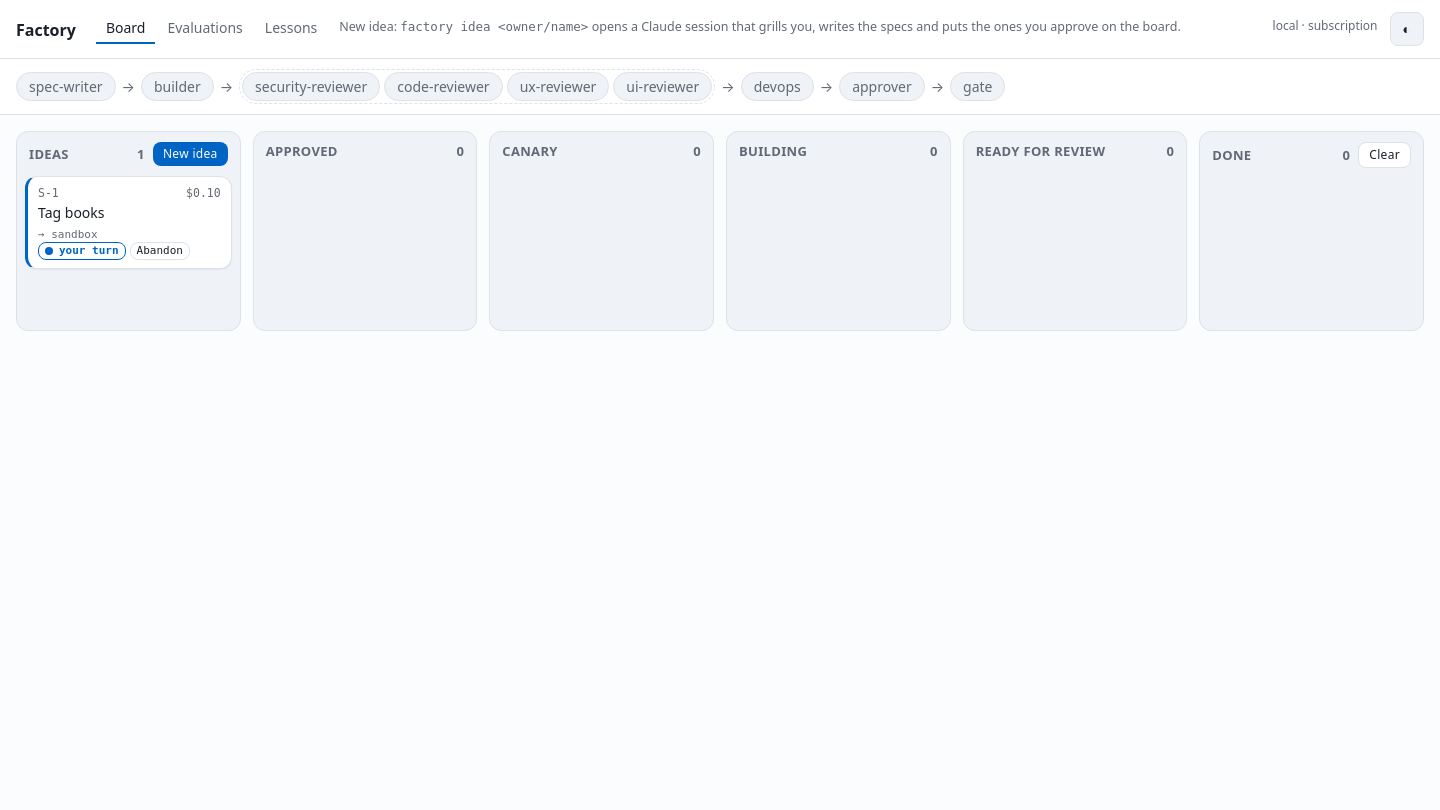
Test: an idea session › a New repo session confirms its product, and its stepper is Grill → Scaffold → Review → Merged
The image size is (1440, 810).
Click the element showing "S-1 $0.10 Tag books → sandbox your turn Abandon". click: [128, 222]
box: [25,176,232,269]
(page scrolled)
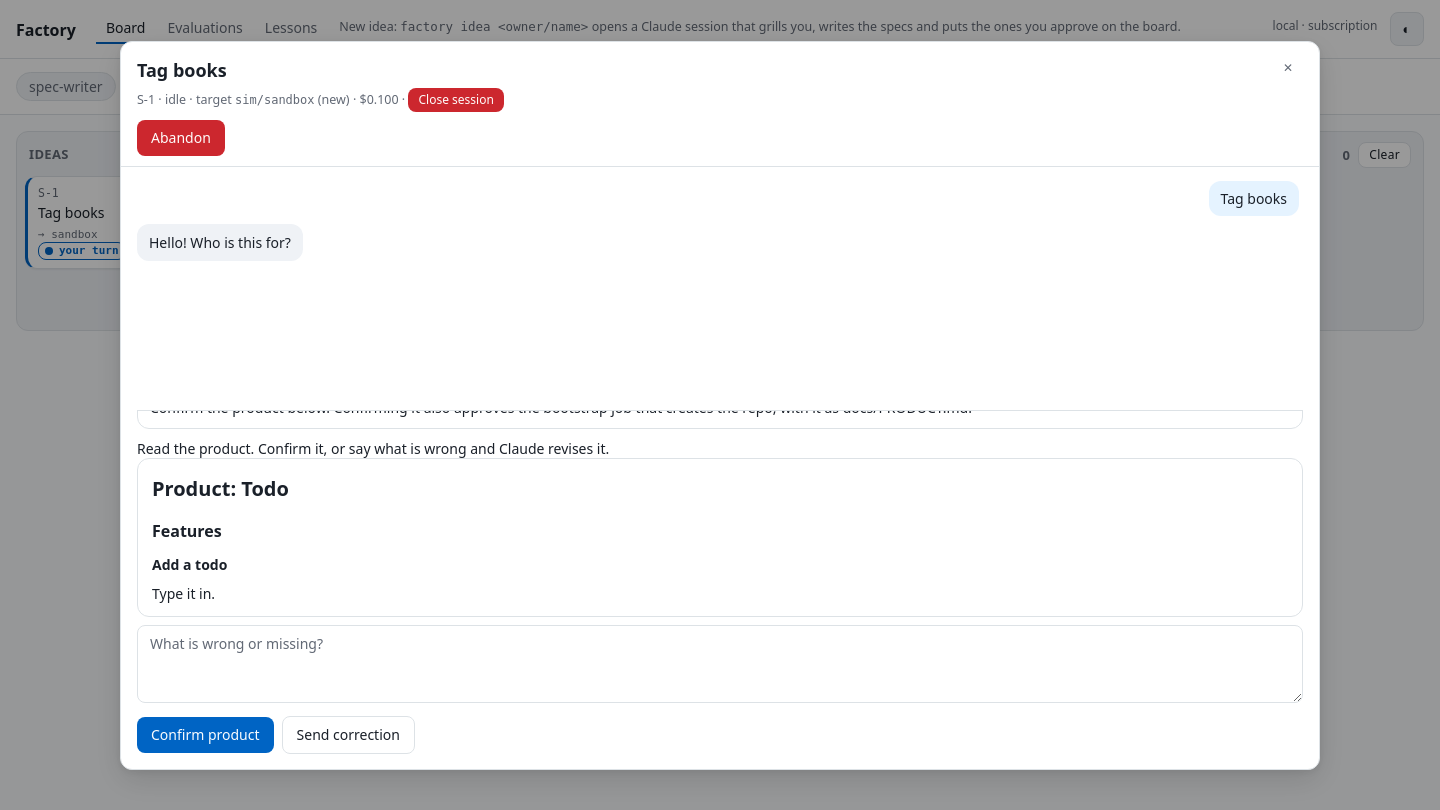
Expected: the element showing "Product: Todo Features Add a todo Type it in." is shown, [137,458,1303,617]
Click the button with id "s-confirm-brief". click: [205, 735]
box: [137,717,274,753]
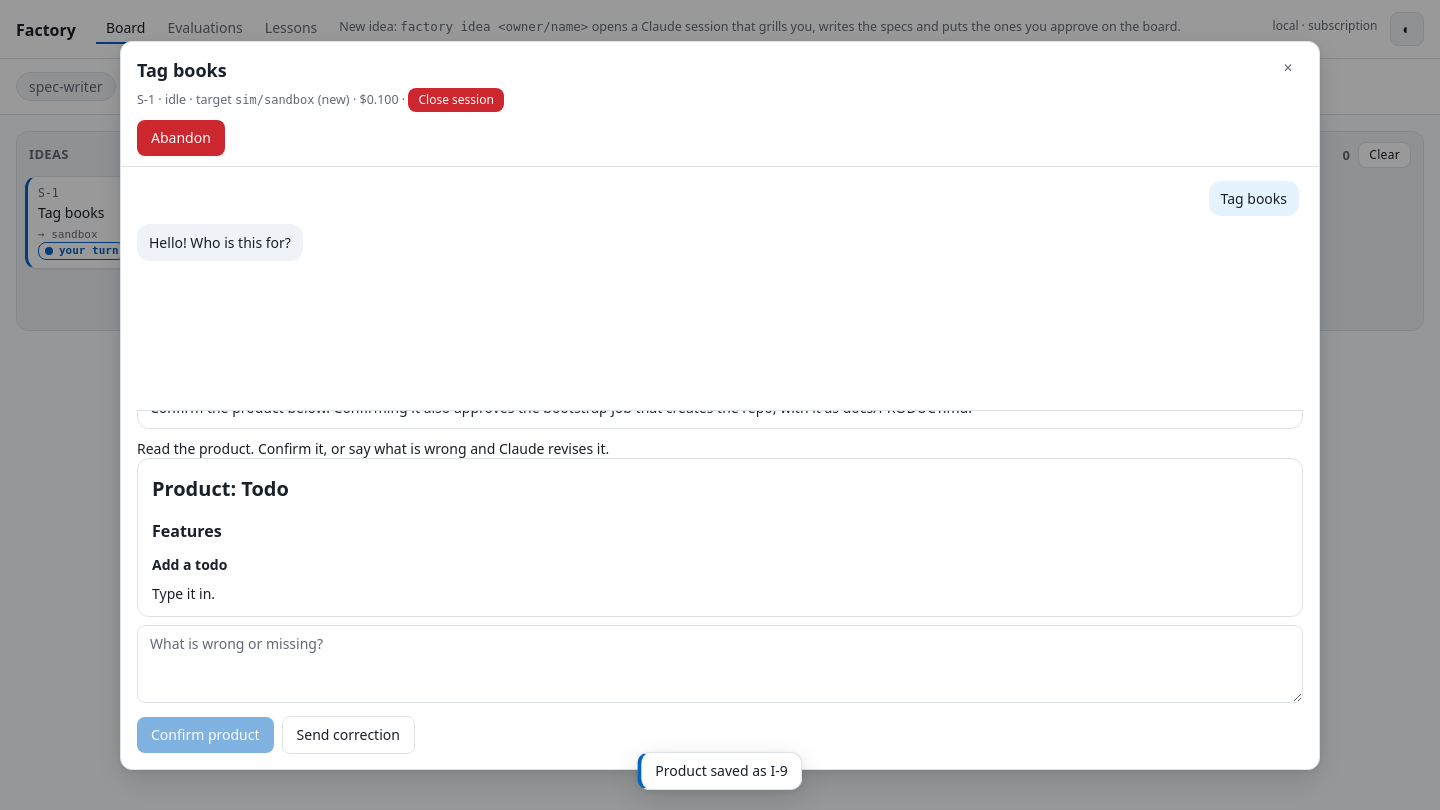
Expected: the message with id "toast" reads "Product saved as I-9", [655,761,788,780]
